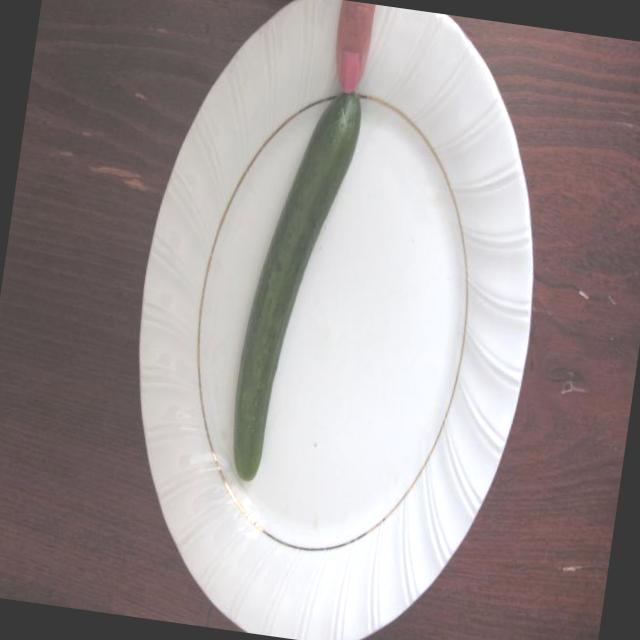Cucumber: (214, 84, 367, 494)
Finger: (322, 0, 382, 97)
